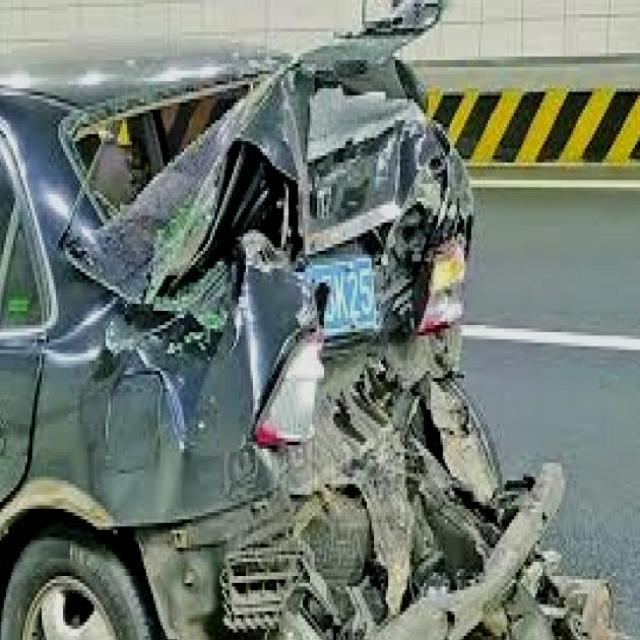accident: (50, 12, 632, 640)
